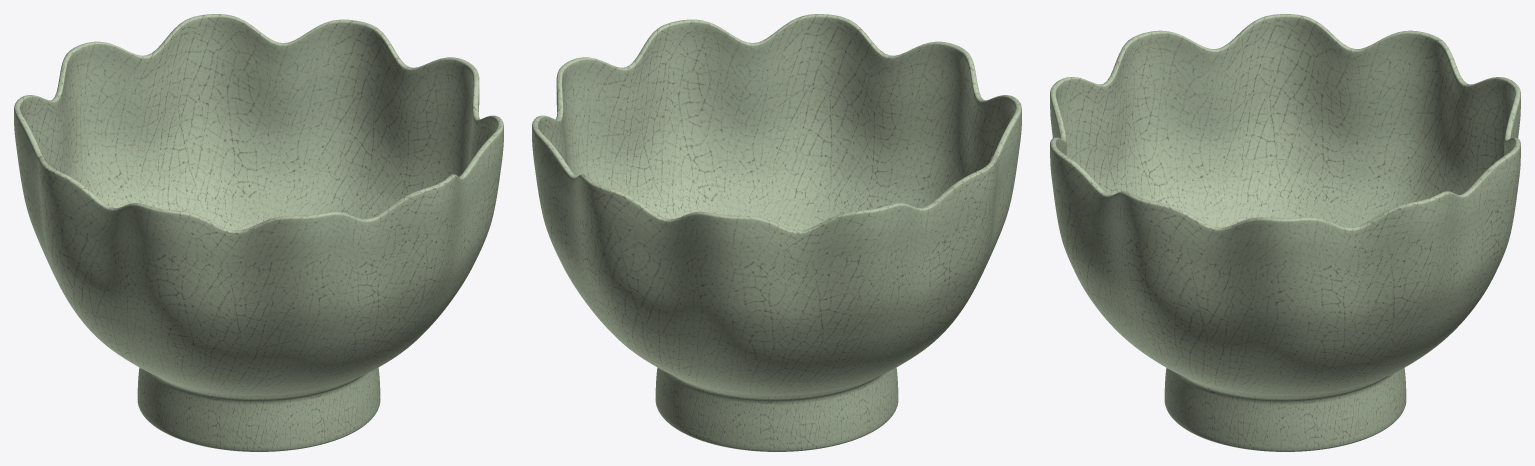
The model's file is ru-lotus.glb.
3 views of the same model, side by side, from view 1: azimuth 30°, elevation 25°; view 2: azimuth 150°, elevation 25°; view 3: azimuth 270°, elevation 25° (orthographic).
Visible parts, largest first — view 1: Ru_016929_VideoRefined_GlazeStudy; view 2: Ru_016929_VideoRefined_GlazeStudy; view 3: Ru_016929_VideoRefined_GlazeStudy.
Boxes of the visible parts, x1=… form: Ru_016929_VideoRefined_GlazeStudy: x1=14, y1=14, x2=503, y2=451; Ru_016929_VideoRefined_GlazeStudy: x1=532, y1=14, x2=1021, y2=451; Ru_016929_VideoRefined_GlazeStudy: x1=1050, y1=14, x2=1520, y2=451.
Size of the model in its own units: 0.162 by 0.104 by 0.1556.
Materials: 2 (1 with a texture image).
